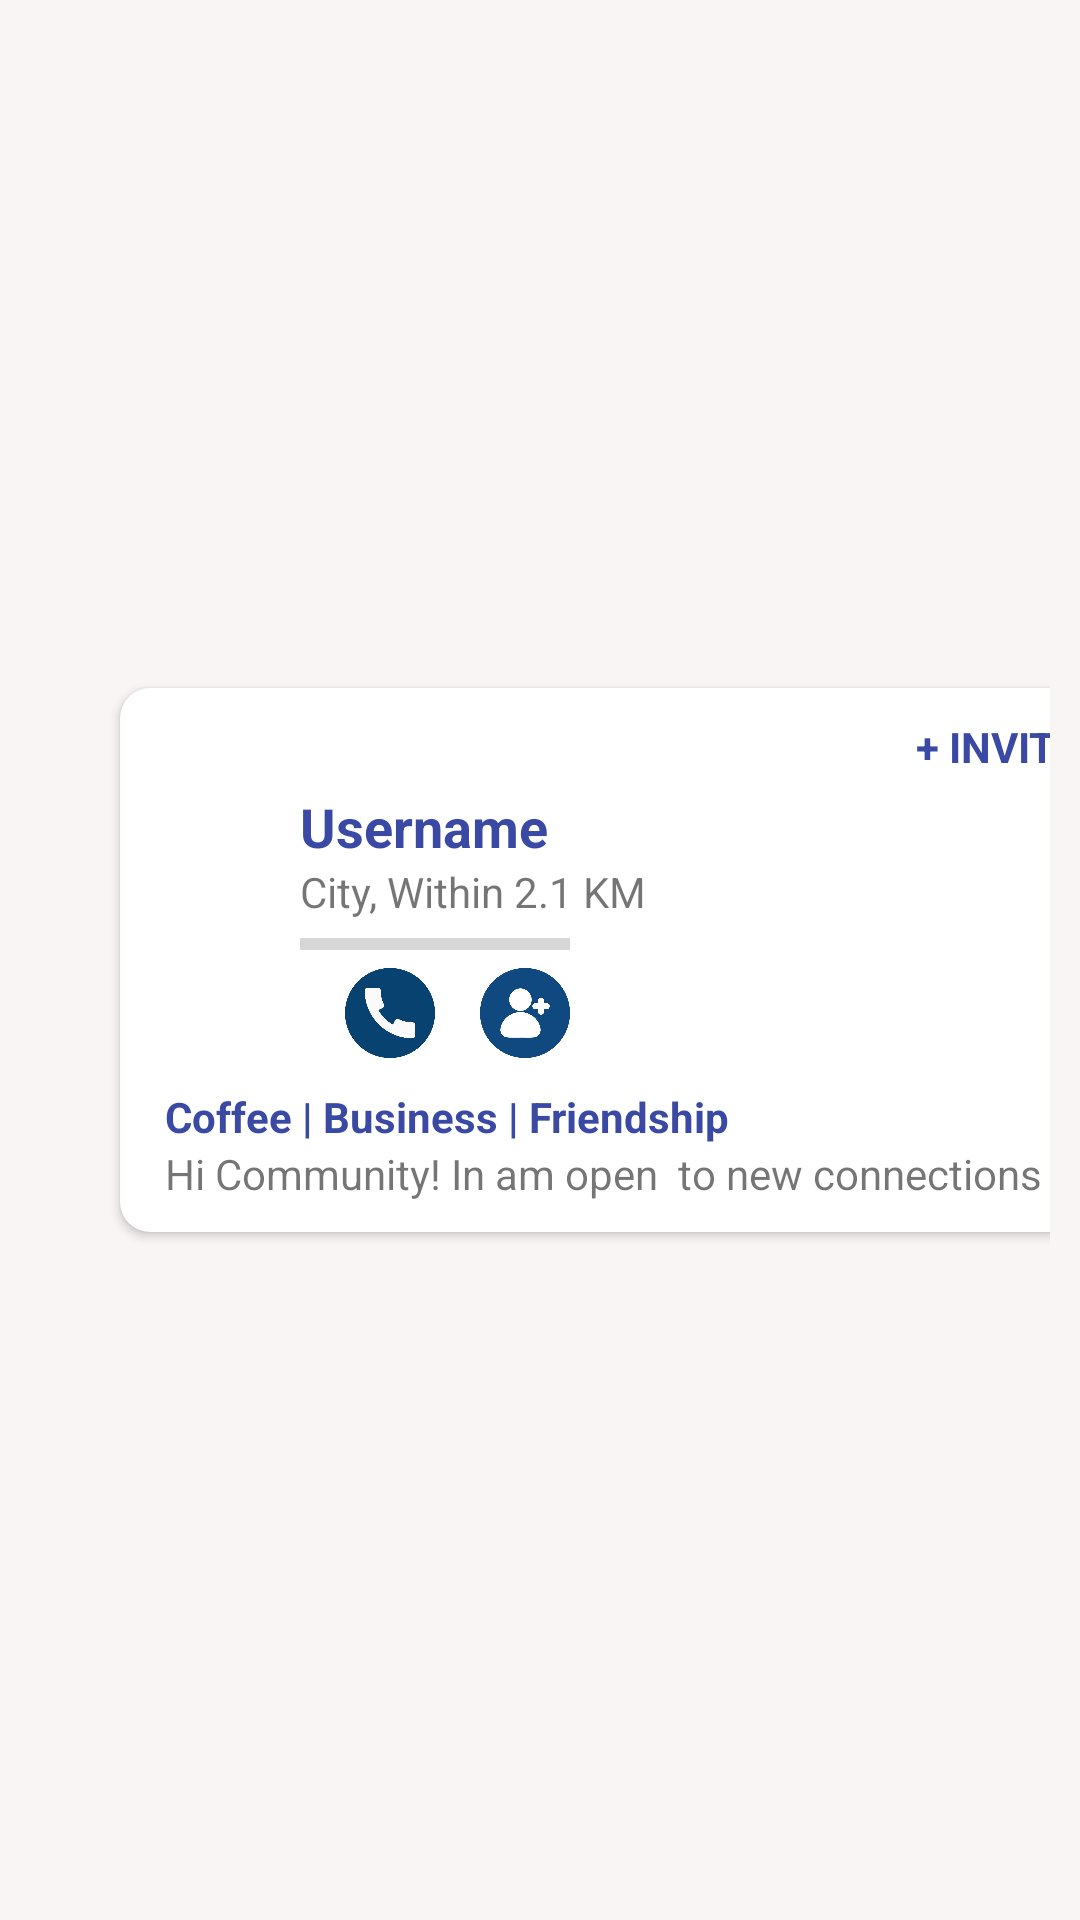

Named icons in this screenshot (1080×1920) and their bounding boxes, (x1, y1, x2, y2):
add contact: (480, 968, 570, 1058)
telephone: (345, 968, 435, 1058)
